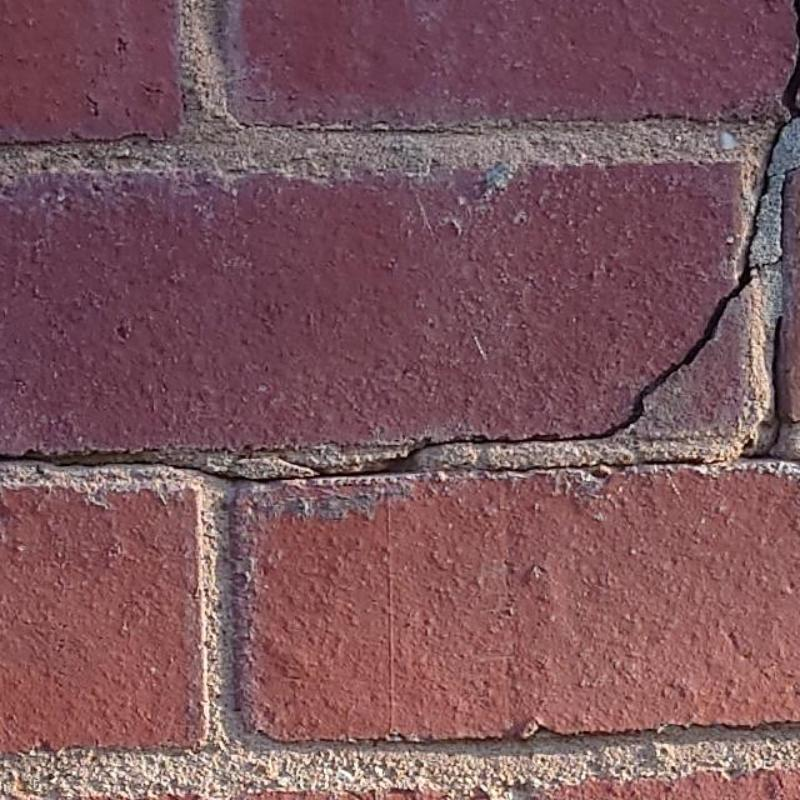pothole: (423, 48, 799, 446), (0, 449, 429, 485), (738, 316, 782, 459), (752, 165, 799, 272), (471, 458, 722, 472), (795, 0, 799, 20), (796, 20, 799, 36)
